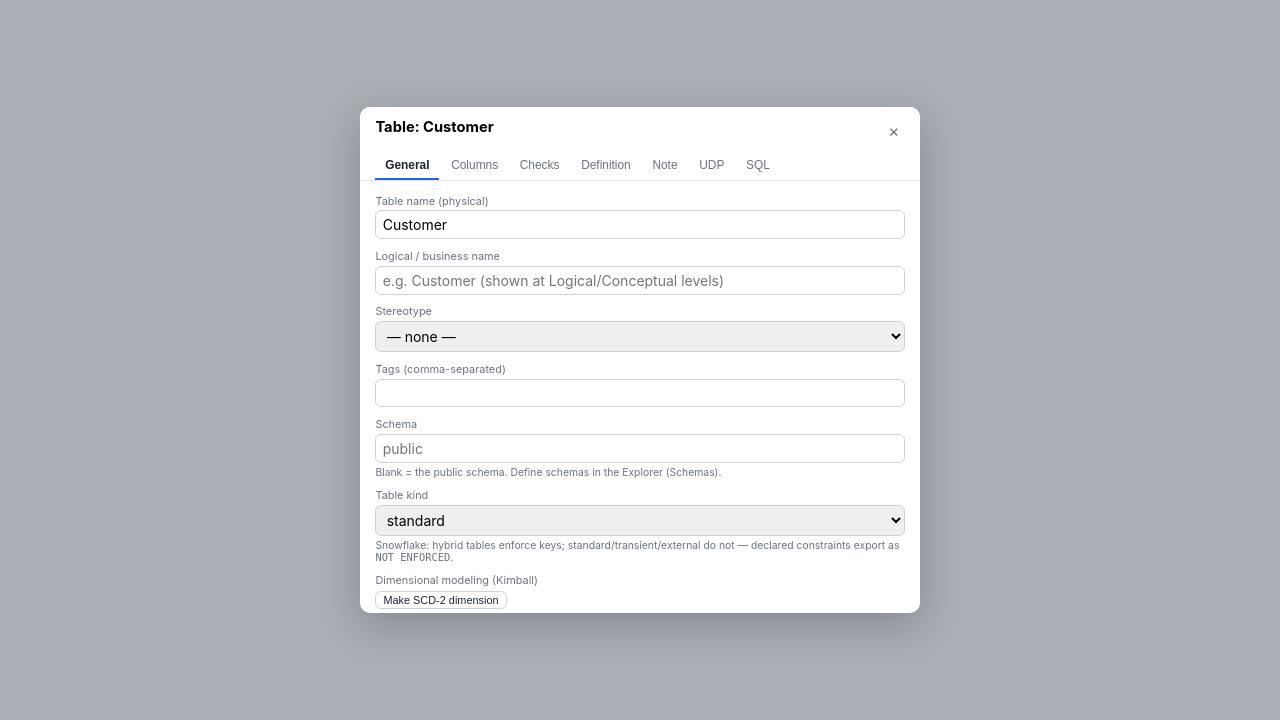
Test: ColumnGrid interactions › shows the source-native type in the detail when a field has discovery provenance
Click the button with class "tab-btn" showing "Columns" at [475, 166], box [441,153,508,180]
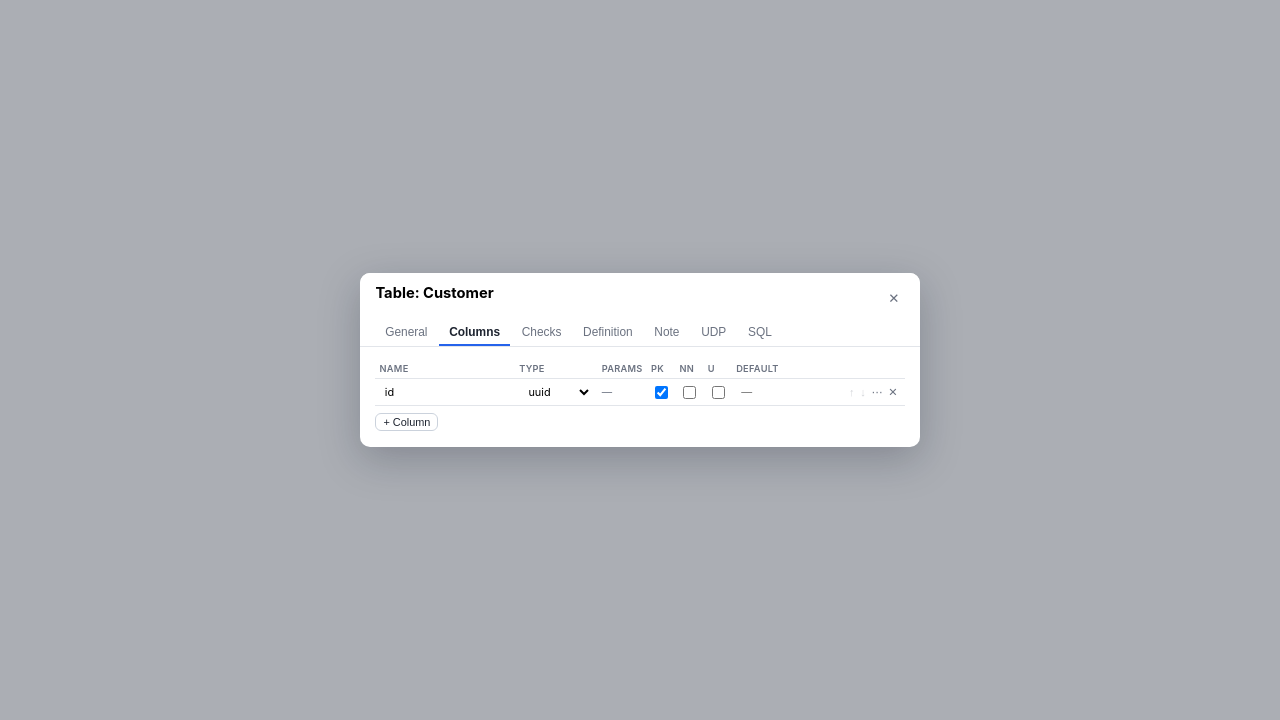
Click the button with class "colgrid__act" showing "⋯" at [877, 392], box [869,384,886,400]
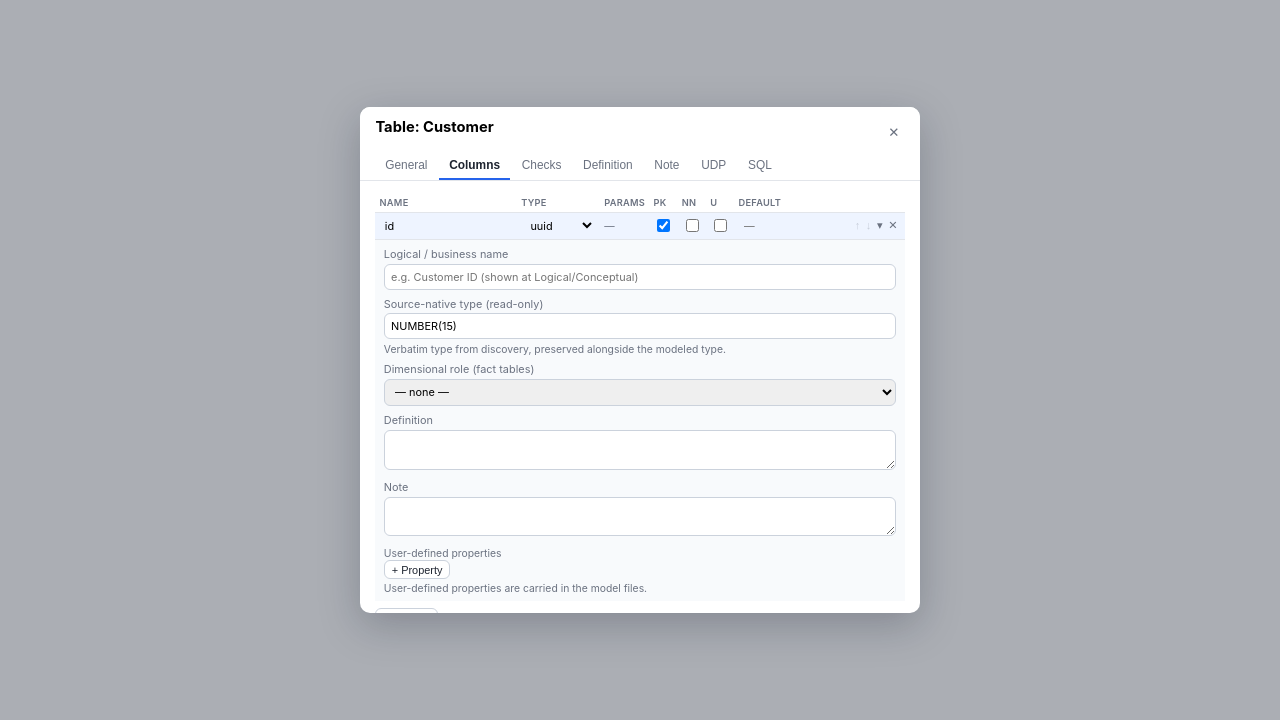
Check: the text "Source-native type" is shown, box [384,297,543,311]
Check: the field with class "src-native" holds "NUMBER(15)", box [384,313,896,339]
